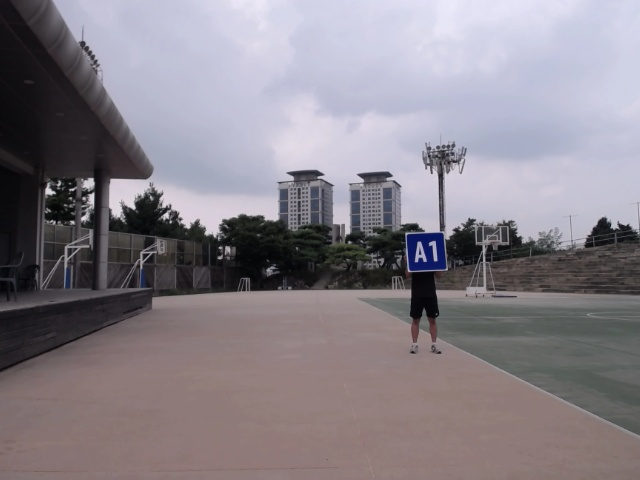delivery_a1: (406, 232, 447, 272)
